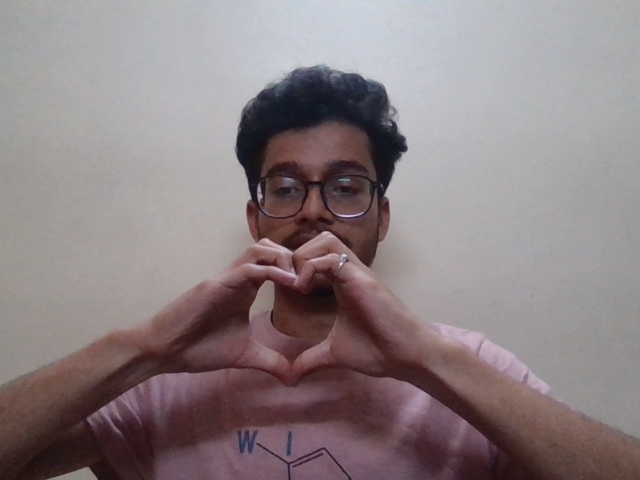silent-voice: (205, 226, 392, 396)
